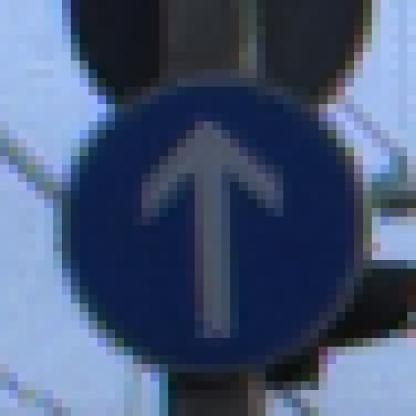AheadOnly: (45, 53, 373, 374)
